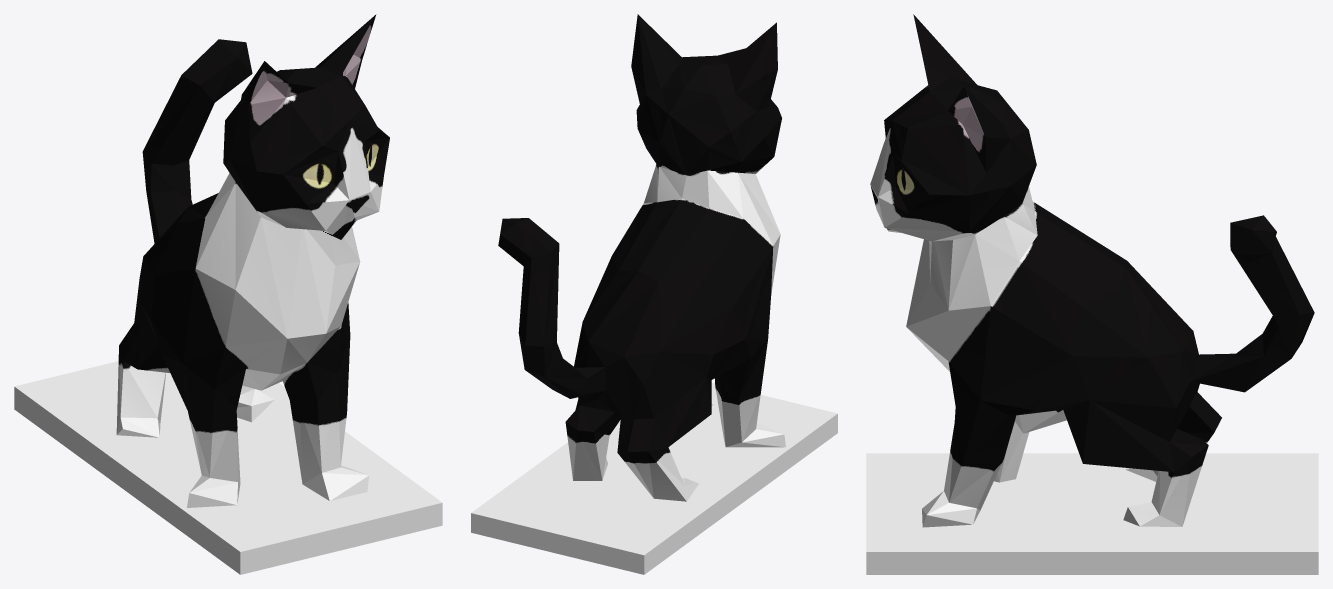
The picture shows the model from 3 angles, left to right: view 1: azimuth 30°, elevation 25°; view 2: azimuth 150°, elevation 25°; view 3: azimuth 270°, elevation 25°; orthographic projection. The views are drawn at different scales.
Parts seen in each view (by area): view 1: Figure, Plinth; view 2: Figure, Plinth; view 3: Figure, Plinth.
Boxes of the visible parts, x1,y1,x2,y2 form: Figure: (116, 14, 389, 507); Plinth: (14, 361, 442, 574); Figure: (498, 14, 785, 501); Plinth: (471, 383, 837, 574); Figure: (870, 14, 1314, 527); Plinth: (866, 453, 1318, 574).
Size of the model in its own units: 0.4554 by 1.04 by 0.8822.
2 materials, 1 textured.
